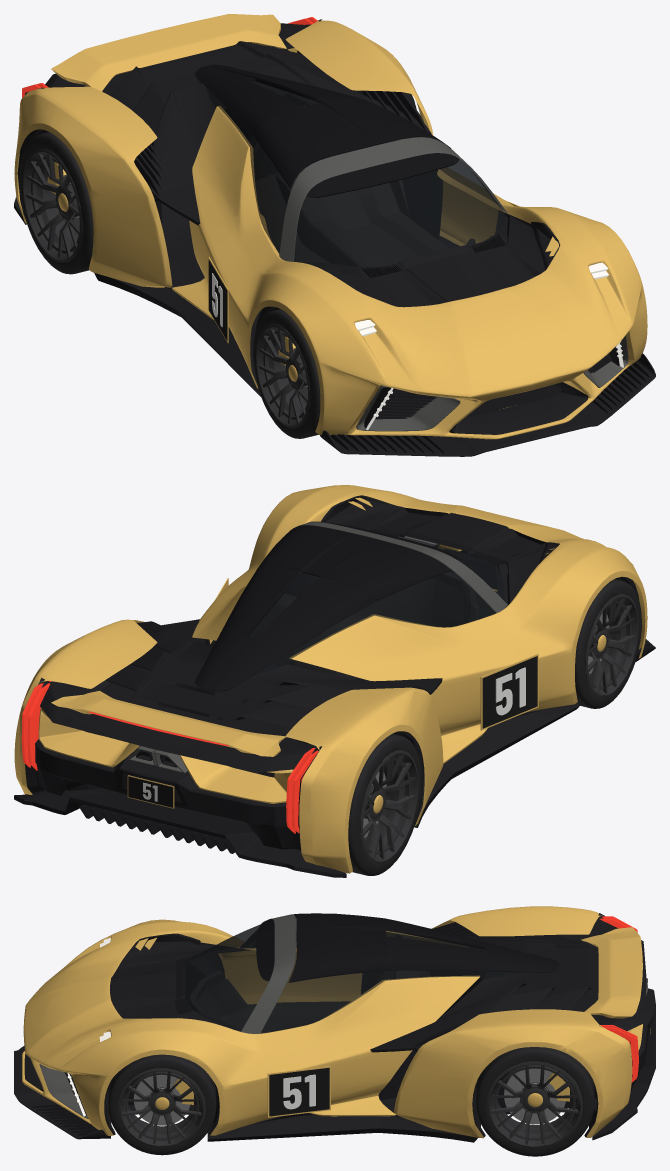
The model's file is surge_lod0.glb.
3 renders of one model, top to bottom at view 1: azimuth 30°, elevation 25°; view 2: azimuth 150°, elevation 25°; view 3: azimuth 270°, elevation 25°, orthographic. The views are drawn at different scales.
Visible parts, largest first — view 1: Body, Wheel_RR, Wheel_FR; view 2: Body, Wheel_RR, Wheel_FR; view 3: Body, Wheel_RL, Wheel_FL.
Part boxes in pixels (left/top/right/bottom): Body: left=14, top=14, right=655, bottom=456; Wheel_RR: left=19, top=132, right=93, bottom=274; Wheel_FR: left=253, top=309, right=320, bottom=438; Body: left=14, top=485, right=655, bottom=877; Wheel_RR: left=348, top=733, right=422, bottom=875; Wheel_FR: left=575, top=579, right=641, bottom=708; Body: left=14, top=906, right=655, bottom=1142; Wheel_RL: left=476, top=1047, right=594, bottom=1156; Wheel_FL: left=108, top=1054, right=216, bottom=1155.
Bounding box in the file's own units: 2.44 × 1.33 × 4.85.
6 materials, 3 textured.
